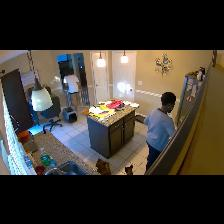person: (144, 92, 176, 172), (64, 69, 79, 111)
